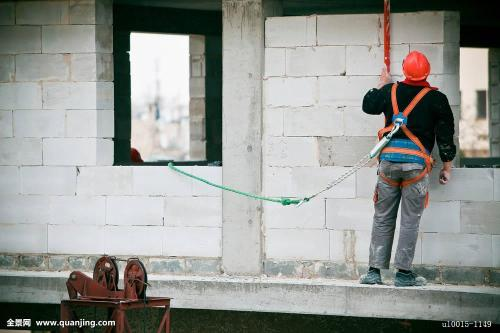boots: (393, 270, 426, 286), (359, 266, 382, 283)
hard-hat: (401, 50, 430, 81)
person: (359, 49, 456, 287)
